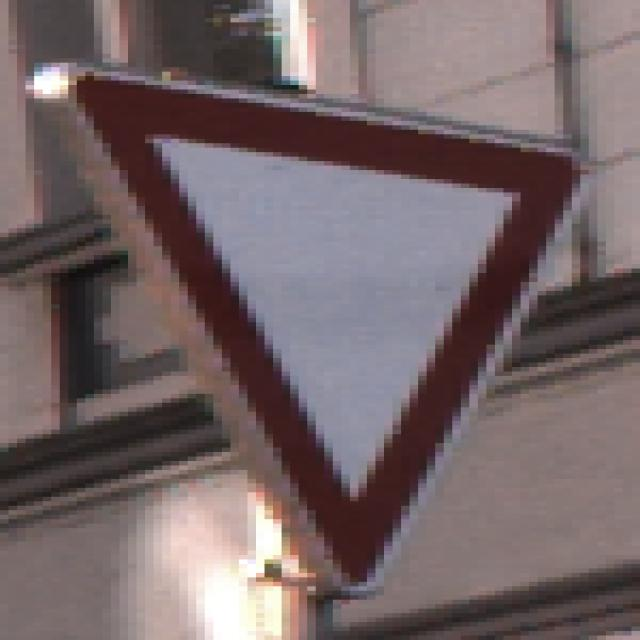Give Way: (52, 55, 590, 587)
